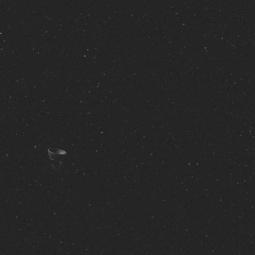debris: (43, 146, 70, 169)
